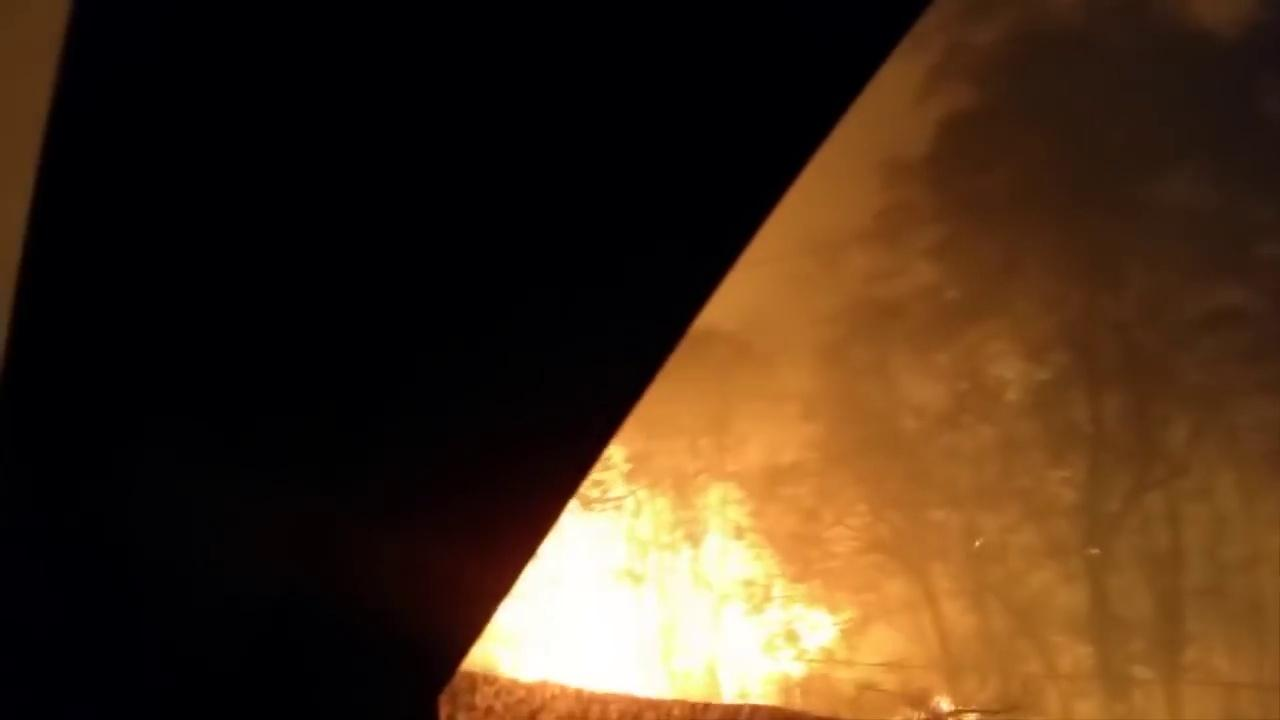Fire: (462, 467, 852, 712)
